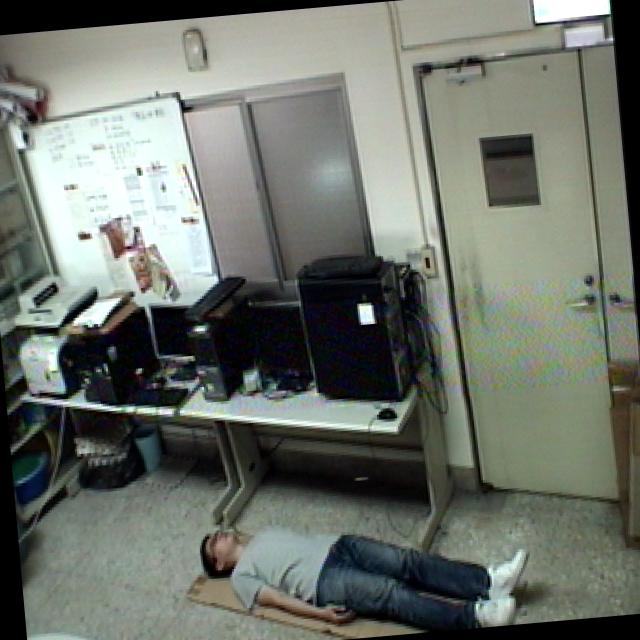lie: (187, 478, 538, 640)
